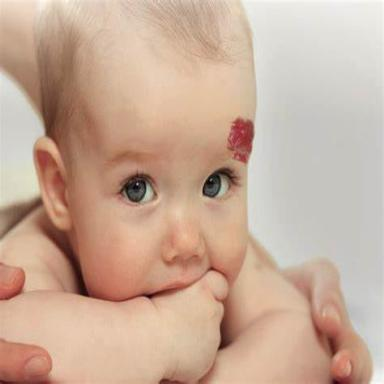Hemangiome: (227, 118, 254, 162)
